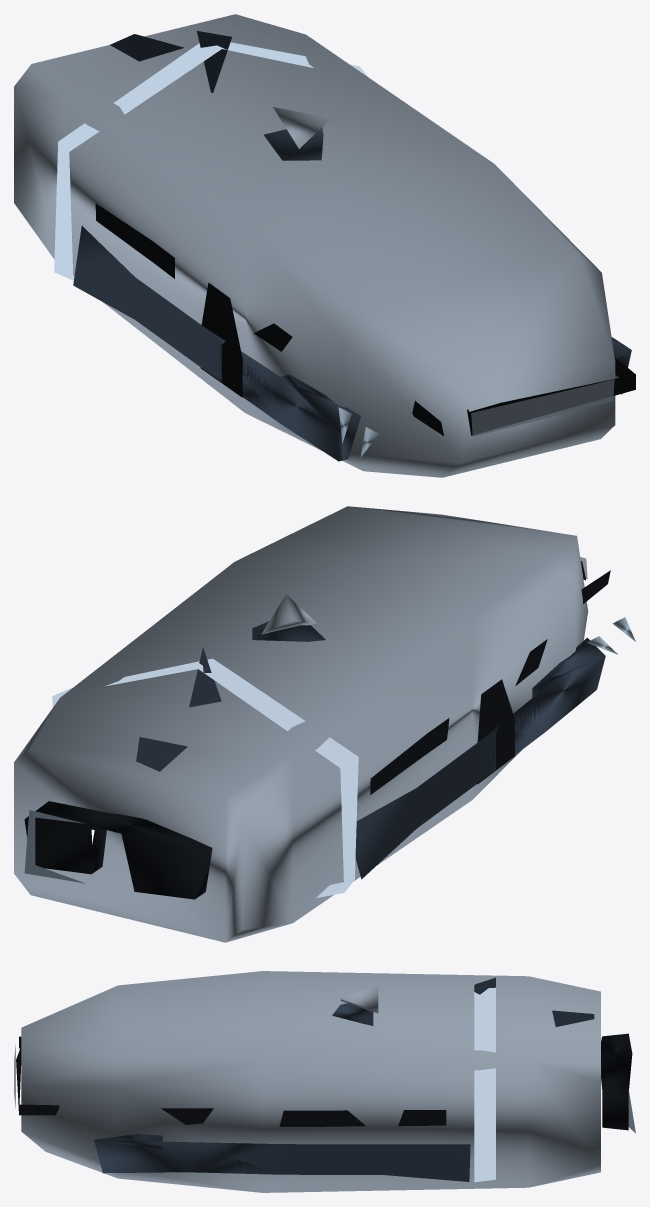
Rendered from paragraf-wykonawcy-hawk-9-lod2.glb.
3 renders of one model, top to bottom at view 1: azimuth 30°, elevation 25°; view 2: azimuth 150°, elevation 25°; view 3: azimuth 270°, elevation 25°, orthographic. The views are drawn at different scales.
Bounding box in the file's own units: 8.46 × 7.46 × 20.84.
